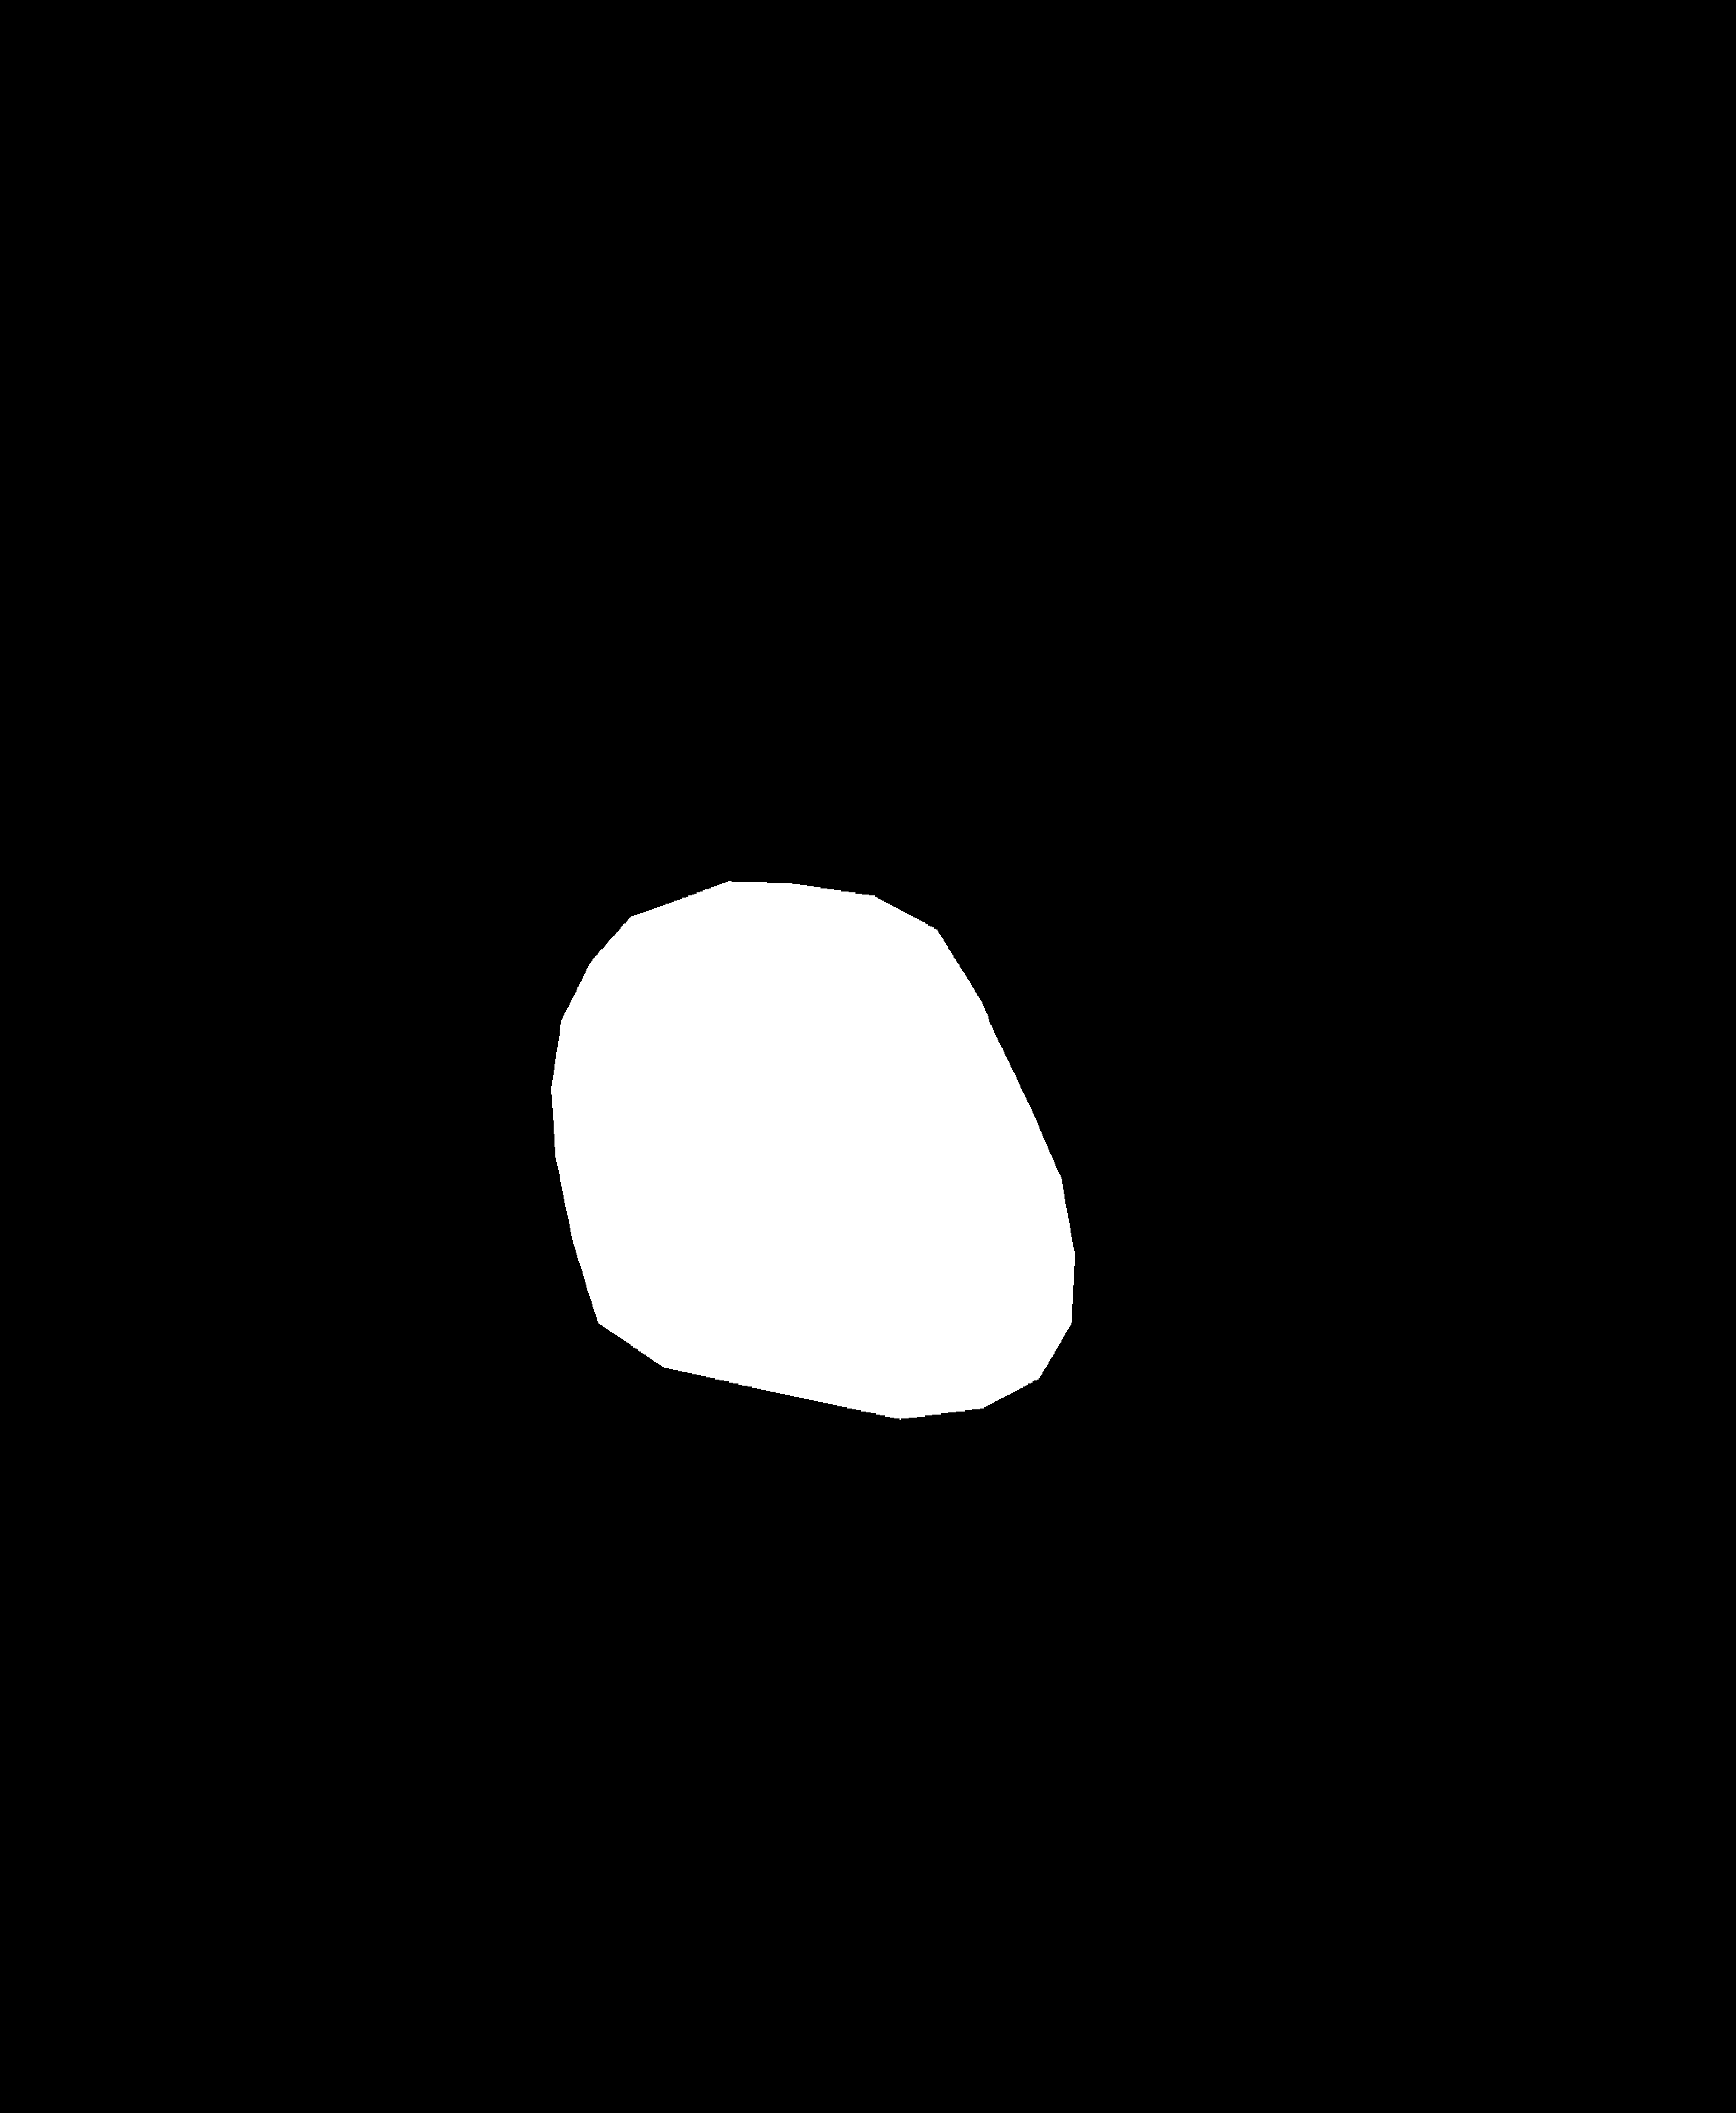heart: (539, 902, 1071, 1402)
left_lung: (91, 204, 706, 1615)
right_lung: (804, 190, 1418, 1587)
